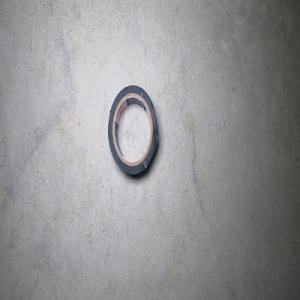Tape: (107, 84, 158, 178)
